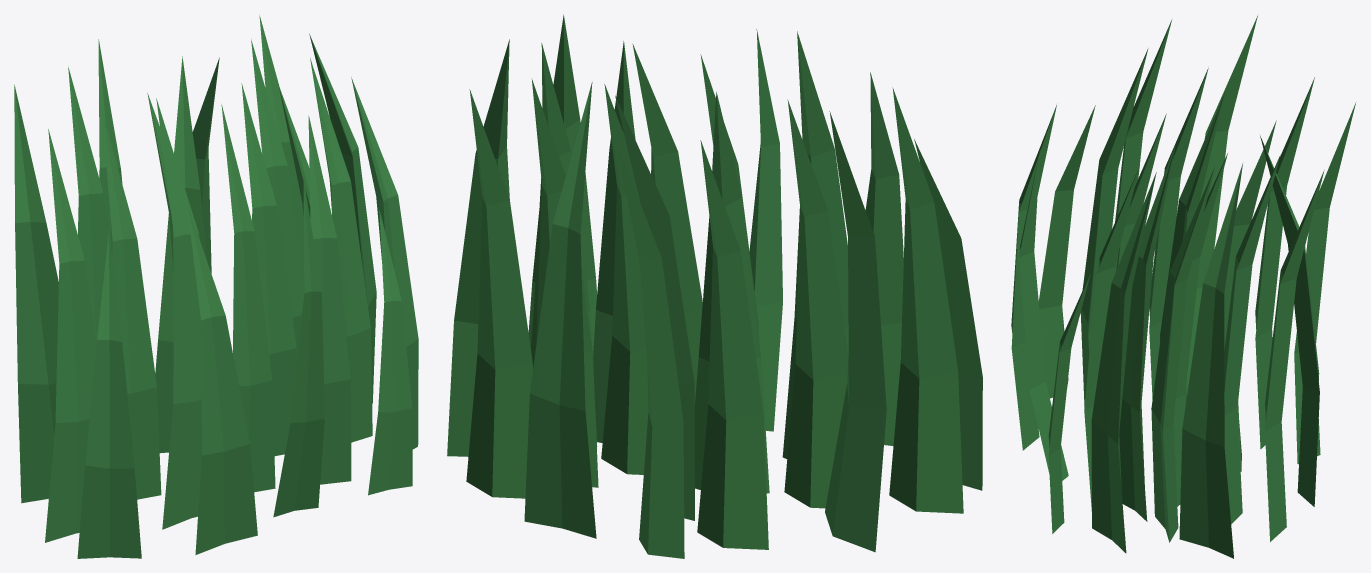
The model's file is Grass04.fbx.
The picture shows the model from 3 angles, left to right: view 1: azimuth 30°, elevation 25°; view 2: azimuth 150°, elevation 25°; view 3: azimuth 270°, elevation 25°; orthographic projection. The views are drawn at different scales.
Parts seen in each view (by area): view 1: Grass_04; view 2: Grass_04; view 3: Grass_04.
Part boxes in pixels (x1,y1,x2,y2): Grass_04: (14, 15, 418, 558); Grass_04: (447, 14, 982, 558); Grass_04: (1011, 15, 1355, 558).
Size of the model in its own units: 39.85 by 39.71 by 31.68.
